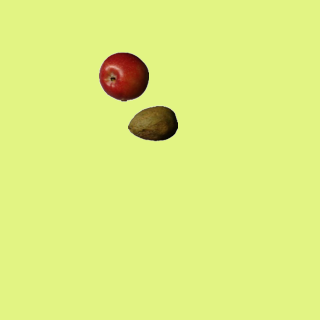Apple Braeburn: (98, 51, 148, 101)
Papaya: (127, 98, 177, 148)
